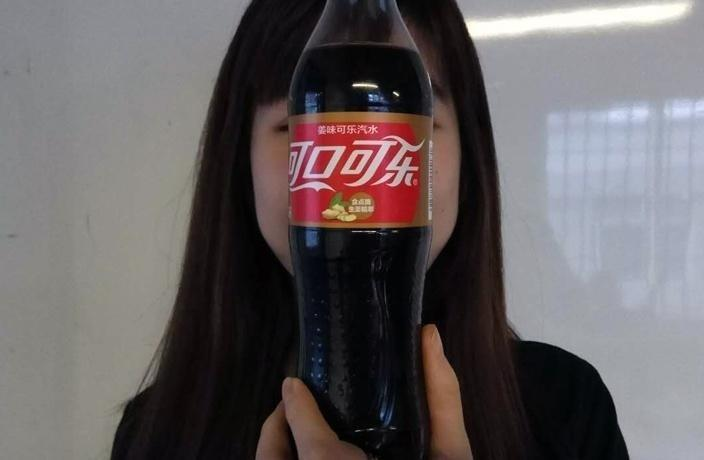bottle-plastic: (283, 1, 438, 454)
